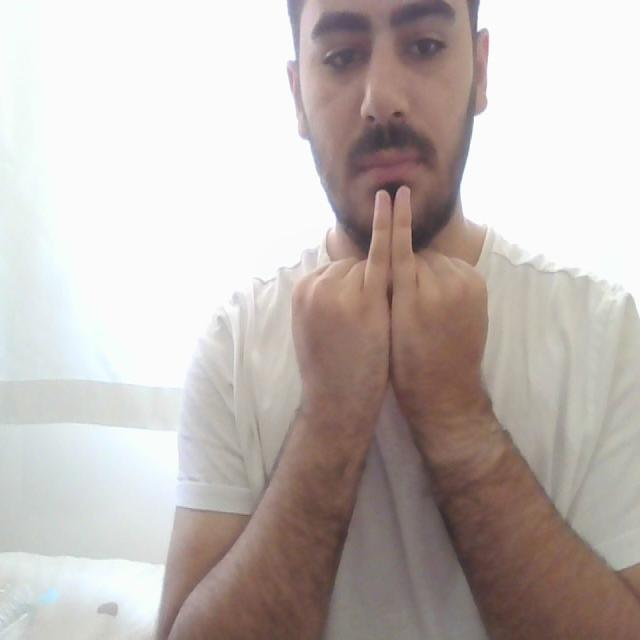Kardes: (288, 182, 492, 444)
